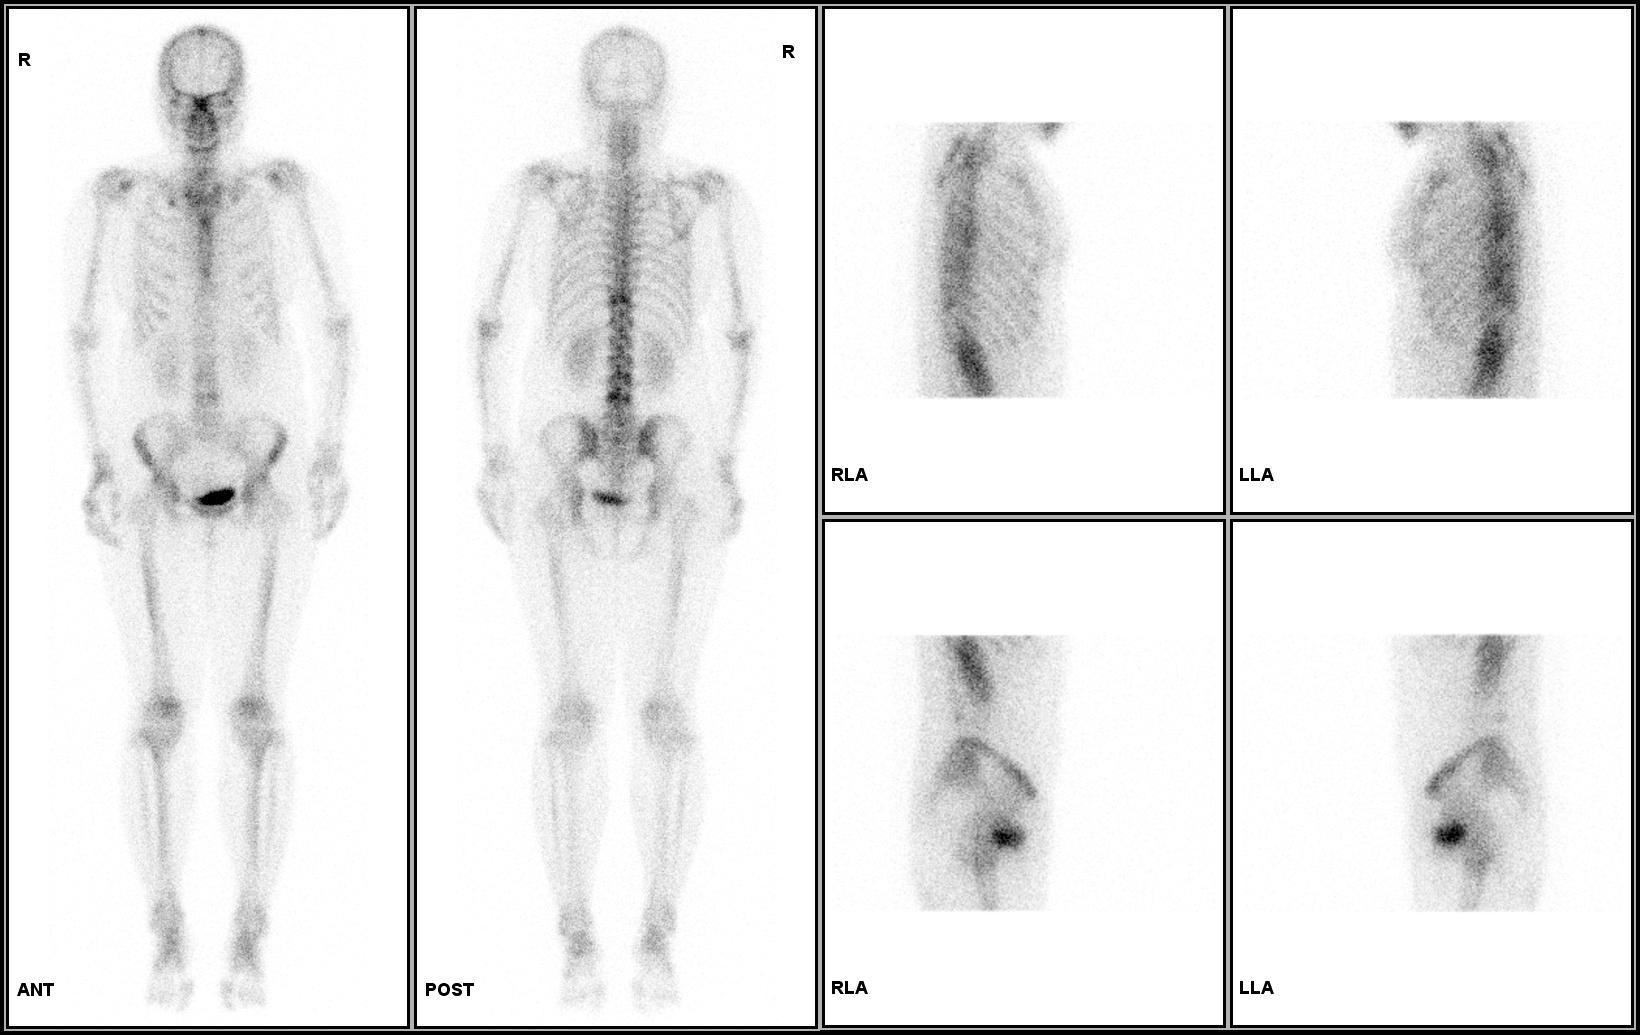person: (8, 6, 815, 1027)
